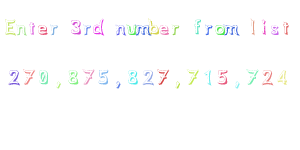,: (112, 79, 125, 93), (231, 78, 243, 93), (172, 79, 184, 91), (53, 81, 66, 92)
0: (35, 67, 53, 87)
1: (199, 65, 215, 87)
2: (141, 67, 156, 88), (260, 67, 275, 88), (7, 66, 21, 87)
3: (67, 17, 83, 39)
4: (277, 67, 293, 88)
5: (94, 65, 111, 87), (215, 64, 229, 88)
7: (185, 64, 200, 89), (154, 65, 170, 88), (21, 67, 38, 88), (245, 64, 259, 88), (81, 66, 94, 87)
8: (126, 66, 141, 88), (67, 66, 80, 88)
E: (2, 17, 18, 38)
b: (149, 15, 159, 38)
d: (92, 16, 107, 39)
e: (35, 19, 48, 38), (158, 20, 171, 38)
f: (190, 17, 202, 38)
i: (258, 19, 269, 38)
l: (248, 15, 258, 38)
m: (225, 20, 243, 37), (135, 19, 150, 39)
n: (113, 20, 127, 38), (15, 21, 27, 38)
o: (215, 20, 226, 38)
r: (48, 21, 62, 36), (171, 19, 181, 37), (204, 22, 215, 38), (83, 22, 91, 39)
s: (268, 22, 281, 37)
t: (282, 18, 293, 37), (27, 18, 37, 36)
u: (126, 19, 137, 37)
